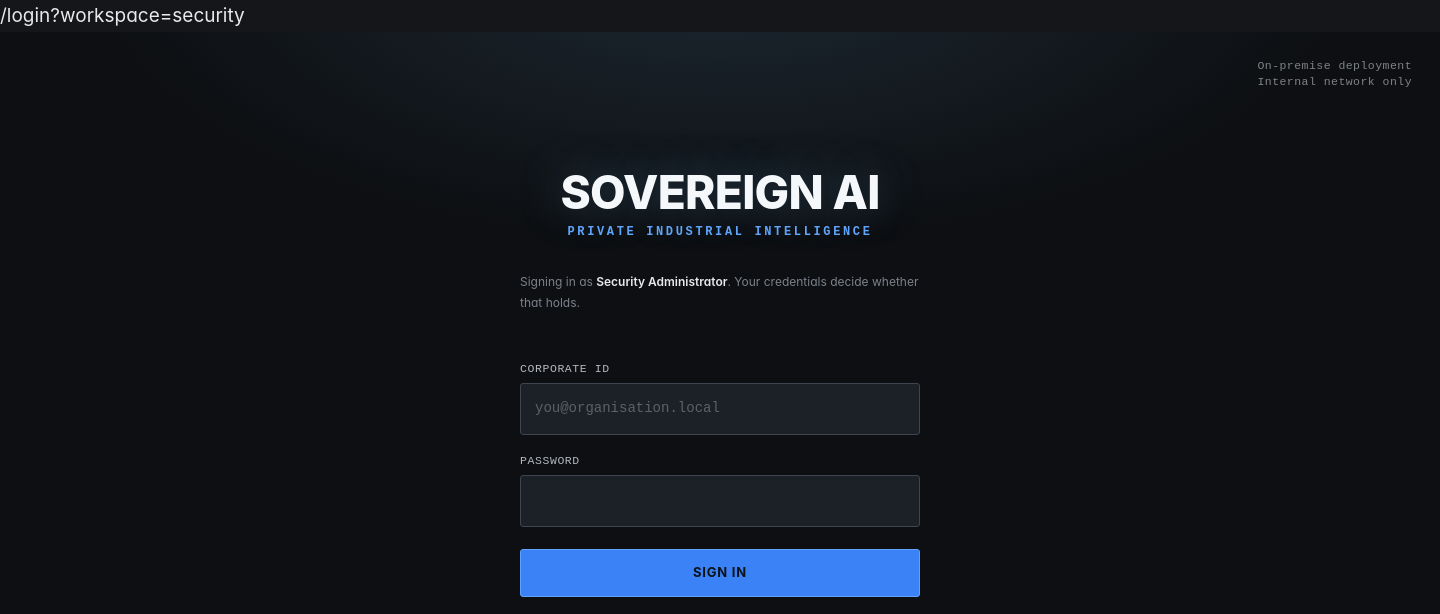
signing in as a role › refuses a role the account does not hold, and says which one
The image size is (1440, 614).
Step 1. Type "a@b.local" into the field labelled "Corporate ID" → (720, 409), box [520, 383, 920, 435]
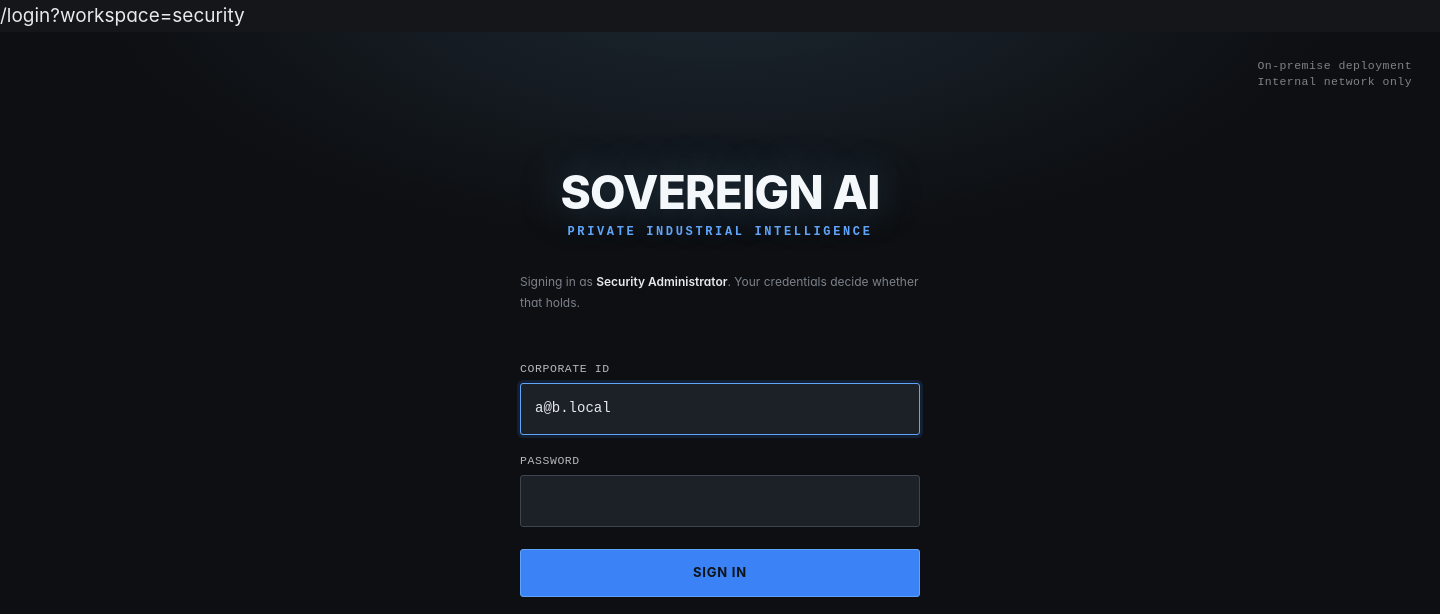
Step 2. Type "hunter2" into the password field labelled "Password" → (720, 501), box [520, 475, 920, 527]
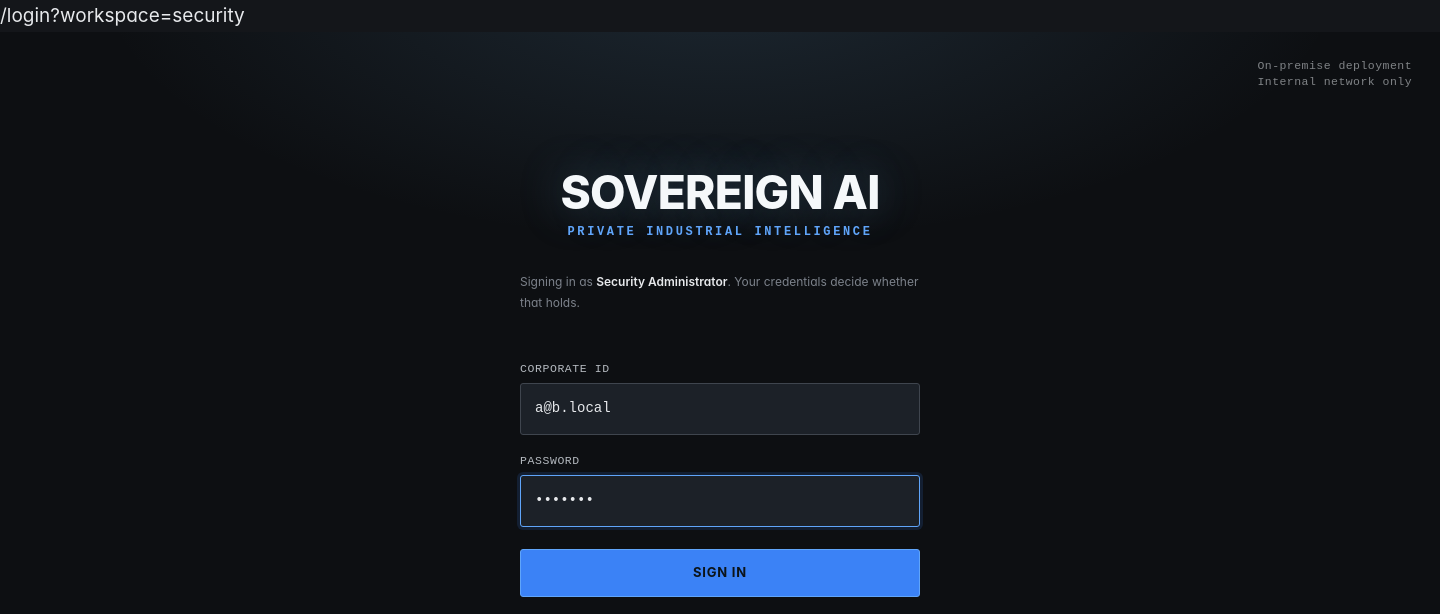
Step 3. Click the button "Sign In" → (720, 573), box [520, 549, 920, 597]
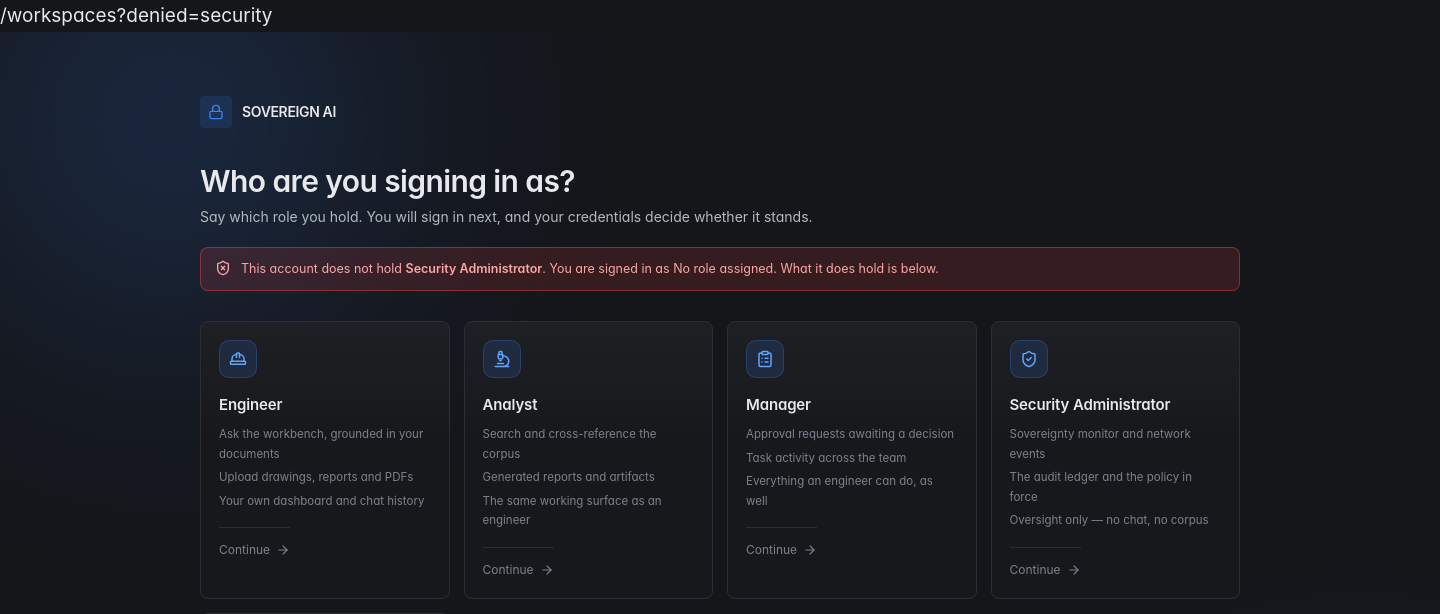
Expected: the text with test id "where" reads "/workspaces?denied=security", [0, 4, 272, 27]
Expected: the text "does not hold" is shown, [241, 261, 402, 276]
